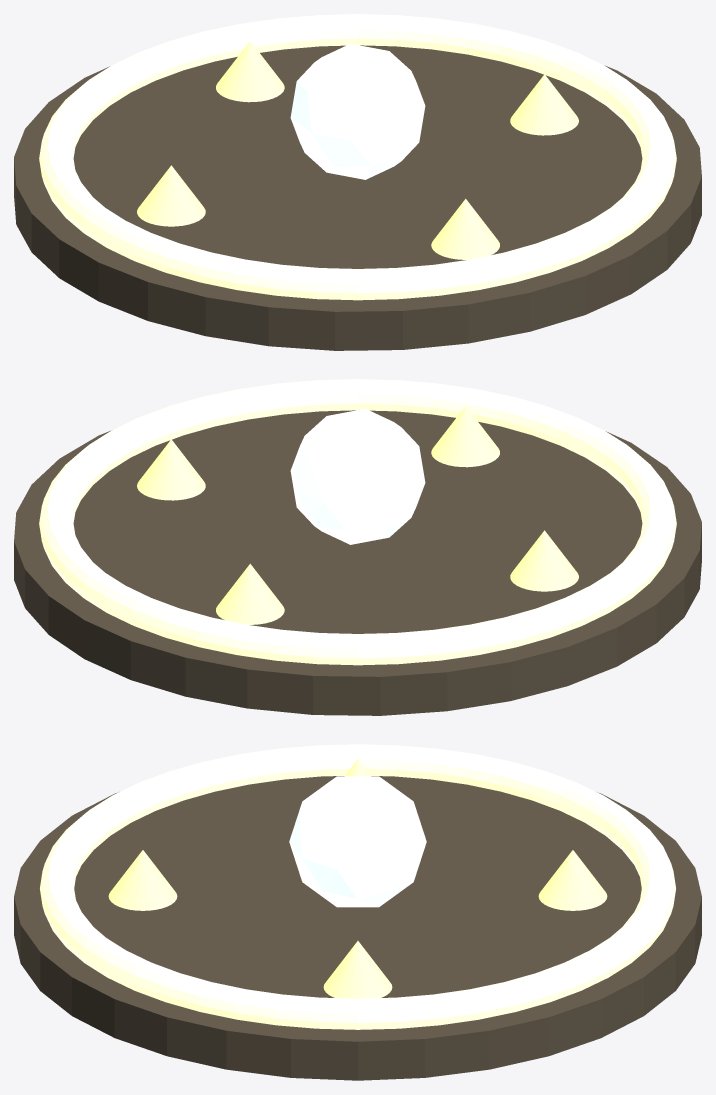
File: teleport_pad.fbx
3 views of the same model, one above another, from view 1: azimuth 30°, elevation 25°; view 2: azimuth 150°, elevation 25°; view 3: azimuth 270°, elevation 25° (orthographic).
Parts seen in each view (by area): view 1: TeleportPad_Base, GlowRing, Crystal, Cone, Cone.002, Cone.001, Cone.003; view 2: TeleportPad_Base, GlowRing, Crystal, Cone, Cone.002, Cone.003, Cone.001; view 3: TeleportPad_Base, GlowRing, Crystal, Cone.001, Cone.003, Cone.
Boxes of the visible parts, bbox=[...] form: TeleportPad_Base: bbox=[14, 45, 701, 350]; GlowRing: bbox=[39, 14, 676, 300]; Crystal: bbox=[290, 43, 425, 179]; Cone: bbox=[510, 74, 578, 135]; Cone.002: bbox=[137, 165, 205, 226]; Cone.001: bbox=[216, 41, 284, 102]; Cone.003: bbox=[431, 198, 499, 259]; TeleportPad_Base: bbox=[14, 410, 701, 715]; GlowRing: bbox=[39, 379, 676, 665]; Crystal: bbox=[290, 408, 425, 544]; Cone: bbox=[137, 439, 205, 500]; Cone.002: bbox=[510, 530, 578, 591]; Cone.003: bbox=[431, 406, 499, 467]; Cone.001: bbox=[216, 563, 284, 624]; TeleportPad_Base: bbox=[14, 776, 701, 1080]; GlowRing: bbox=[40, 744, 675, 1029]; Crystal: bbox=[289, 776, 426, 907]; Cone.001: bbox=[538, 850, 607, 910]; Cone.003: bbox=[108, 850, 177, 910]; Cone: bbox=[323, 941, 392, 998].
Size of the model in its own units: 800 by 200 by 800.
